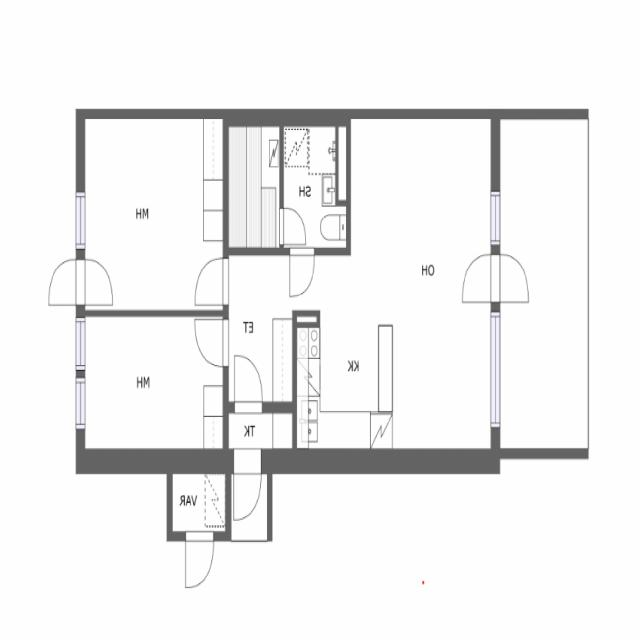door: (234, 449, 262, 519), (490, 255, 529, 302), (462, 255, 500, 302), (48, 259, 85, 305), (76, 259, 112, 305), (235, 355, 262, 413), (195, 320, 228, 366), (195, 258, 228, 304), (186, 532, 213, 587), (290, 248, 314, 297), (279, 208, 305, 244)
